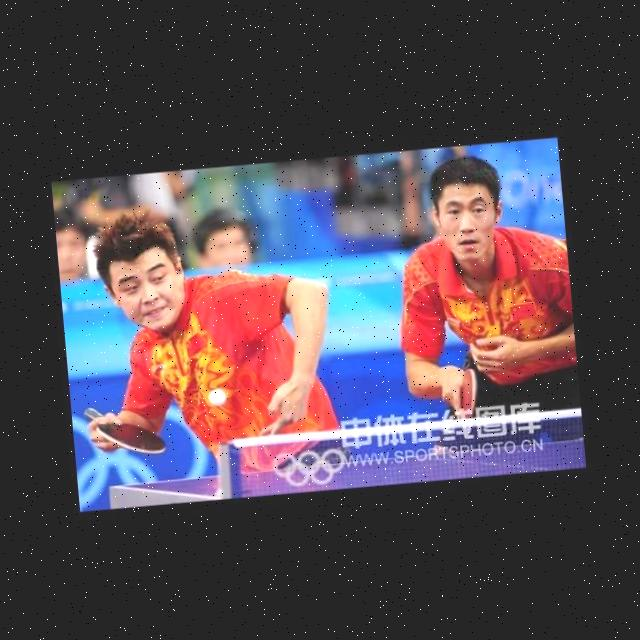ping-pong-ball: (204, 385, 227, 407)
